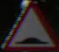Speed Breaker ahead: (7, 6, 50, 48)
